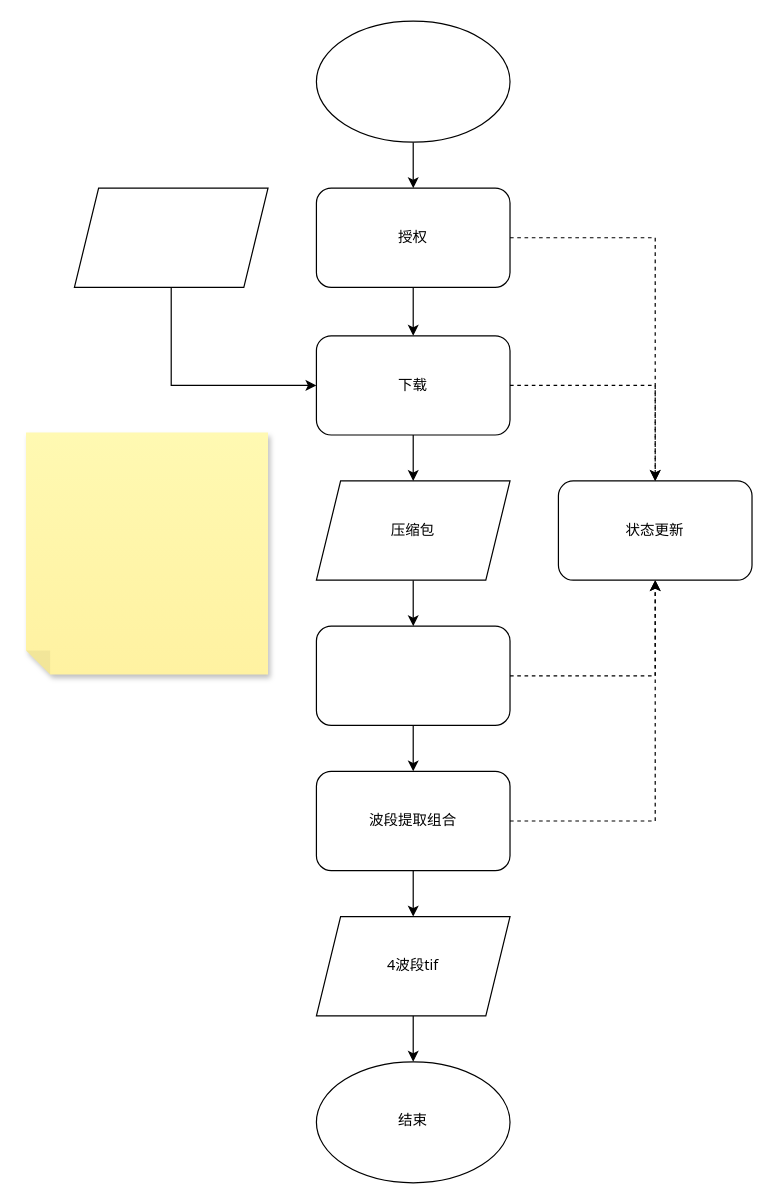
The diagram is 773 pixels wide and 1204 high, and some of its shapes have lost their labels. The shapes that lost their labels are listed below. From the top down, each one's centre as x and y in pixels, then its label:
At (412,81): "开始".
At (170,237): "景编号 景名称 下载地址 保存目录".
At (148,554): "1、数据存储设计，重复下载处理 2、模型输入方式".
At (412,675): "解压".
